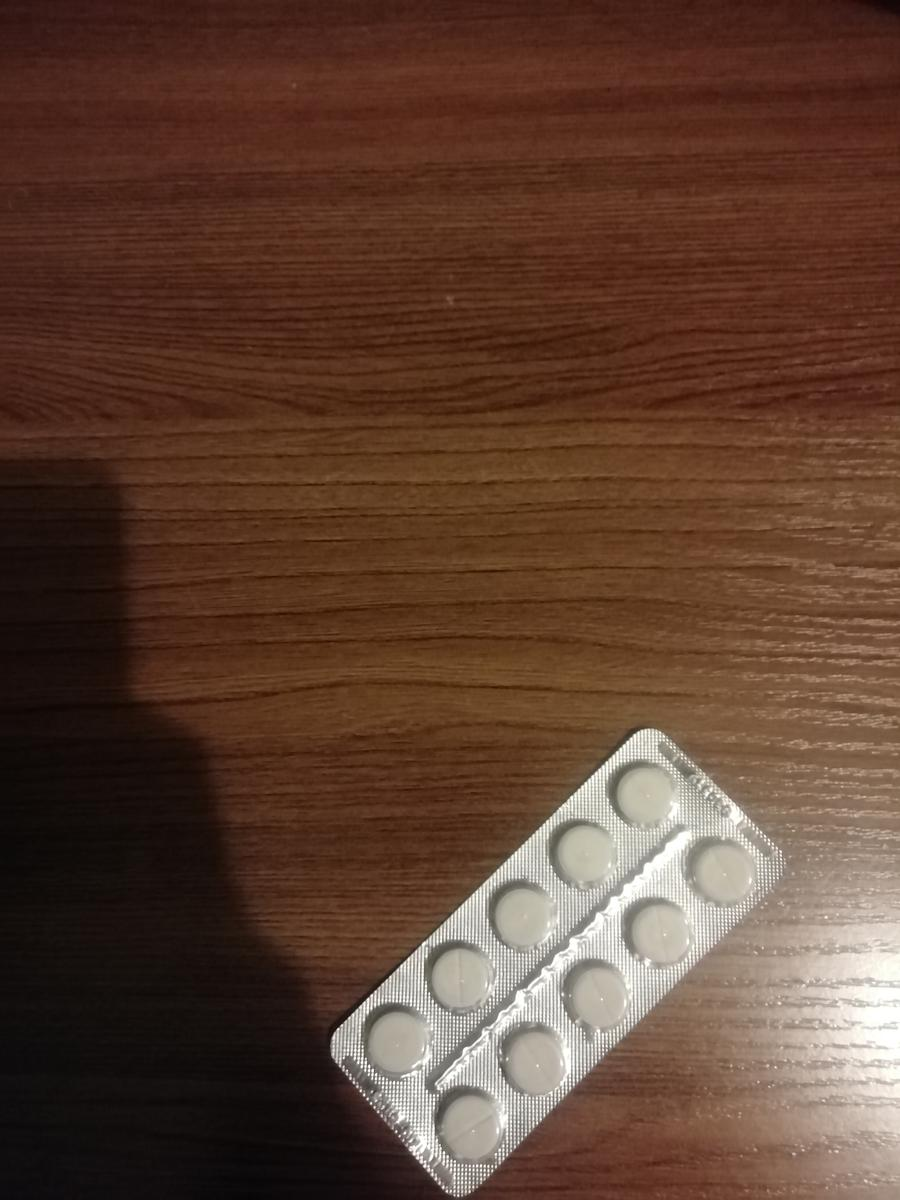tablet: (606, 758, 679, 828), (678, 831, 751, 901), (543, 817, 616, 887), (624, 900, 697, 970), (483, 887, 556, 957), (559, 961, 632, 1031), (500, 1025, 573, 1095), (424, 940, 497, 1010), (359, 1005, 432, 1075), (432, 1085, 505, 1155)
